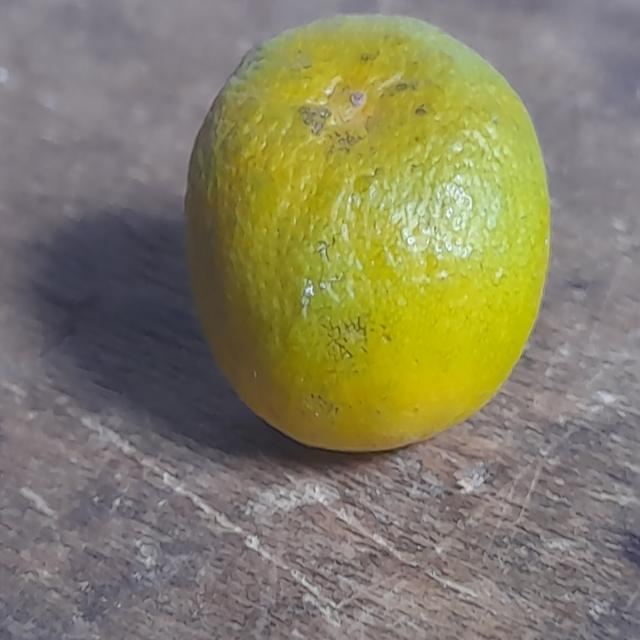greening: (184, 2, 560, 463)
